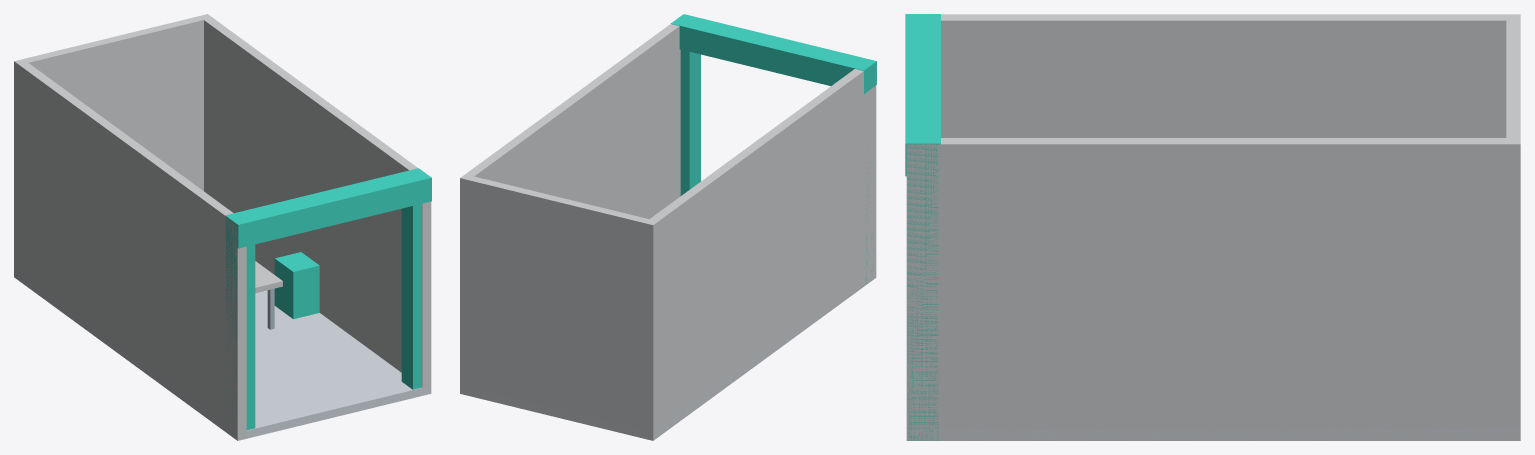
3 views of the same model, side by side, from view 1: azimuth 30°, elevation 25°; view 2: azimuth 150°, elevation 25°; view 3: azimuth 270°, elevation 25° (orthographic). The views are drawn at different scales.
Parts seen in each view (by area): view 1: Exhibition Booth Concept; view 2: Exhibition Booth Concept; view 3: Exhibition Booth Concept.
Part boxes in pixels (x1,y1,x2,y2): Exhibition Booth Concept: (14,14,431,440); Exhibition Booth Concept: (460,14,876,440); Exhibition Booth Concept: (905,14,1520,440).
Size of the model in its own units: 3 by 3.2 by 6.02.
